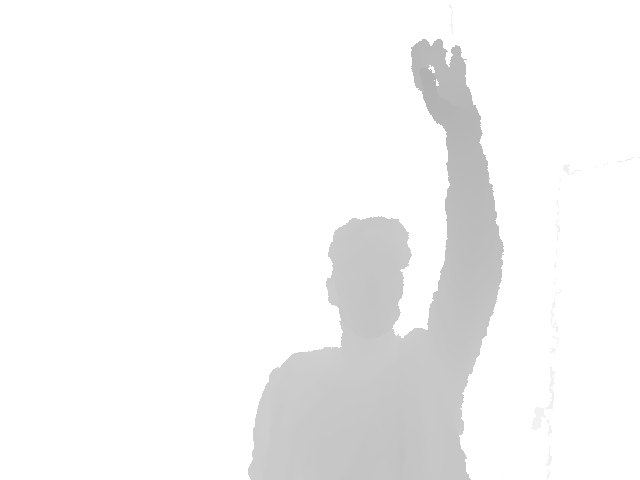hand: (410, 38, 483, 142)
head: (325, 214, 412, 346)
person: (247, 38, 504, 480)
